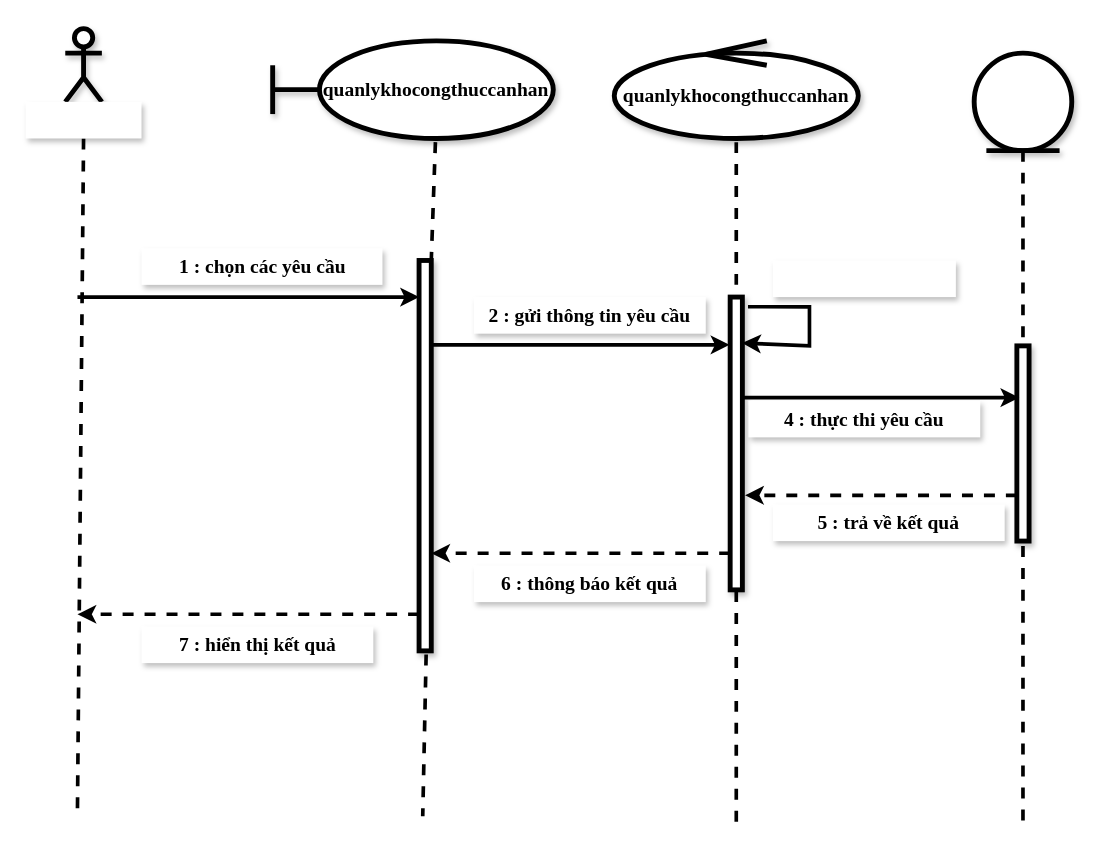
The diagram is 1103 pixels wide and 845 high, and some of its shapes have lost their labels. The centre of each missing label's shape, as x and y in pixels:
"3 : kiểm tra yêu cầu" belongs at pixel 865 280.
"Actor" belongs at pixel 84 66.
"csdl" belongs at pixel 1023 103.
"khachhang" belongs at pixel 84 121.
